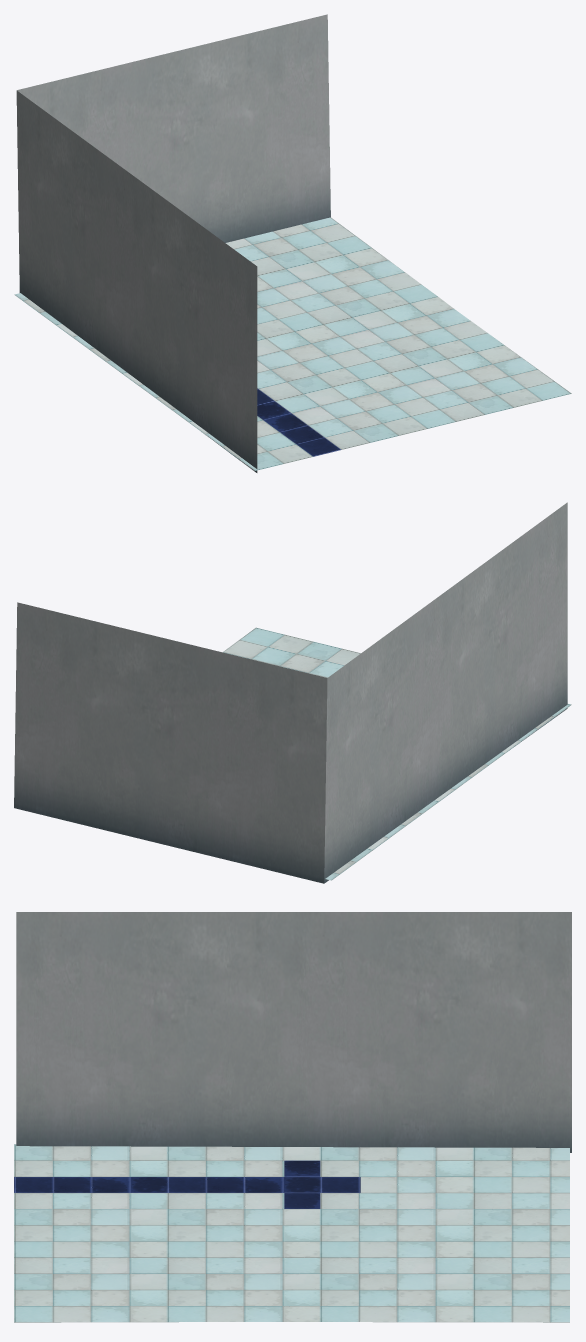
The model's file is PoolCorner.fbx.
3 renders of one model, top to bottom at view 1: azimuth 30°, elevation 25°; view 2: azimuth 150°, elevation 25°; view 3: azimuth 270°, elevation 25°, orthographic. The views are drawn at different scales.
Visible parts, largest first — view 1: Plane.112; view 2: Plane.112; view 3: Plane.112.
Part boxes in pixels (x1,y1,x2,y2): Plane.112: [14, 14, 571, 472]; Plane.112: [14, 502, 571, 883]; Plane.112: [14, 912, 571, 1322].
Size of the model in its own units: 517 by 322 by 681.
3 materials, 3 textured.
